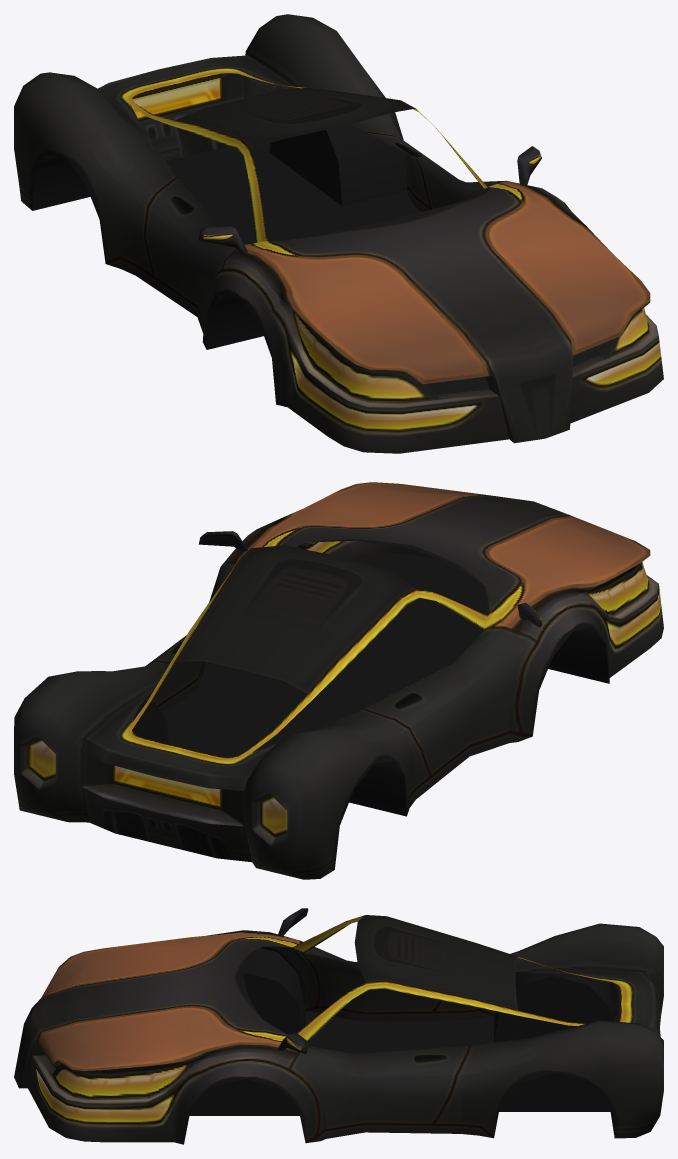
The model's file is car_a2.FBX.
3 renders of one model, top to bottom at view 1: azimuth 30°, elevation 25°; view 2: azimuth 150°, elevation 25°; view 3: azimuth 270°, elevation 25°, orthographic. The views are drawn at different scales.
Parts seen in each view (by area): view 1: car_a2; view 2: car_a2; view 3: car_a2.
Boxes of the visible parts, x1,y1,x2,y2 form: car_a2: [14, 14, 663, 453]; car_a2: [14, 482, 663, 879]; car_a2: [14, 908, 663, 1144].
Size of the model in its own units: 238 by 108 by 473.
